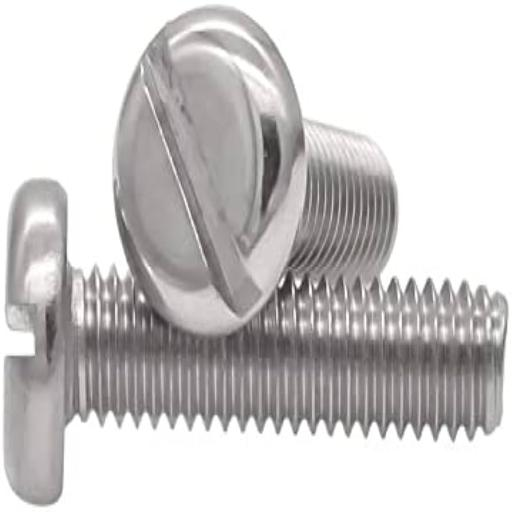Slotted: (108, 7, 307, 340)
